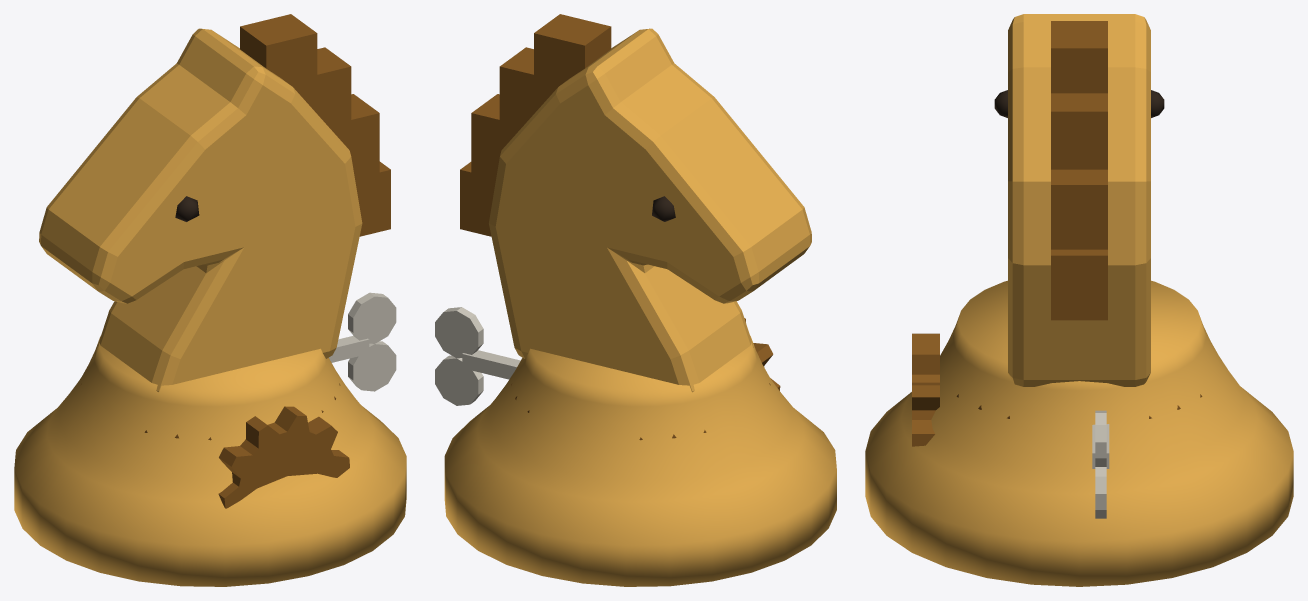
The model's file is knight.glb.
3 views of the same model, side by side, from view 1: azimuth 30°, elevation 25°; view 2: azimuth 150°, elevation 25°; view 3: azimuth 270°, elevation 25° (orthographic). The views are drawn at different scales.
Visible parts, largest first — view 1: knight_body, knight_base, knight_mane, knight_gear, knight_key; view 2: knight_body, knight_base, knight_mane, knight_key; view 3: knight_base, knight_body, knight_mane, knight_gear, knight_key, knight_eye.
Boxes of the visible parts, box(x1,y1,x2,y2) form: knight_body: box(39, 28, 362, 391); knight_base: box(14, 336, 406, 586); knight_mane: box(240, 14, 390, 236); knight_gear: box(218, 406, 349, 508); knight_key: box(329, 292, 396, 391); knight_body: box(489, 28, 811, 392); knight_base: box(444, 336, 836, 586); knight_mane: box(460, 14, 611, 236); knight_key: box(435, 307, 520, 405); knight_base: box(865, 280, 1293, 586); knight_body: box(1008, 14, 1150, 386); knight_mane: box(1051, 21, 1107, 320); knight_gear: box(912, 333, 939, 446); knight_key: box(1092, 410, 1109, 518); knight_eye: box(994, 90, 1164, 117).
Bounding box in the file's own units: 0.64 × 0.77 × 0.6.
